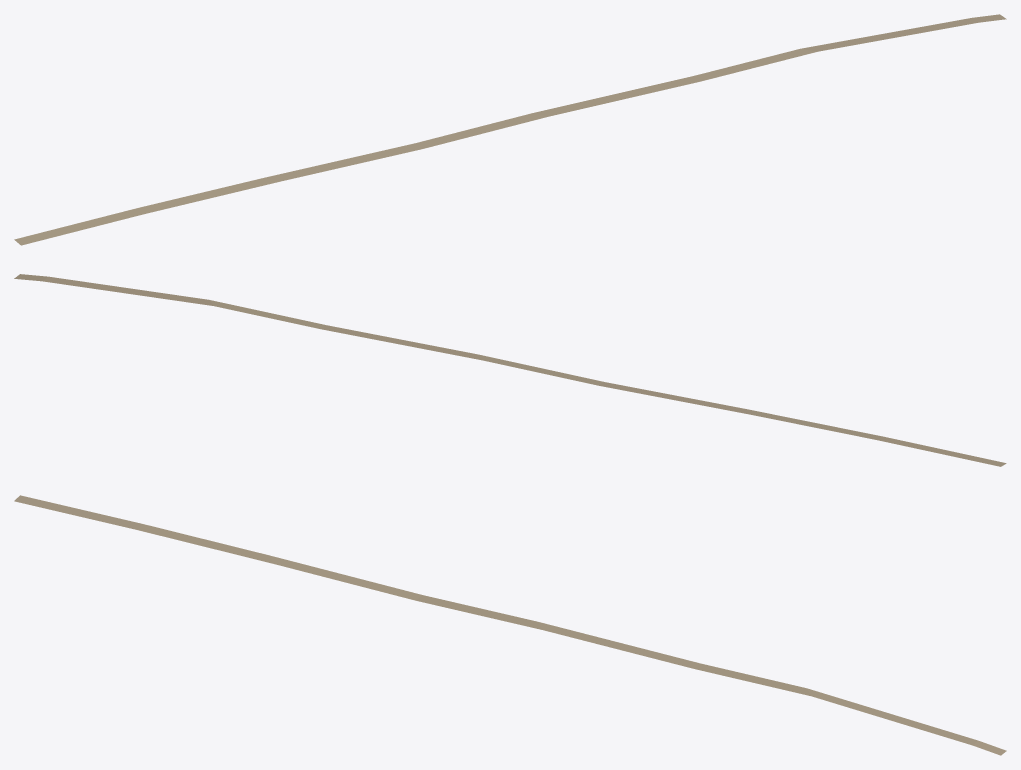
The model's file is farm_37_34_track.glb.
3 views of the same model, one above another, from view 1: azimuth 30°, elevation 25°; view 2: azimuth 150°, elevation 25°; view 3: azimuth 330°, elevation 25° (orthographic). The views are drawn at different scales.
Visible parts, largest first — view 1: geometry_0; view 2: geometry_0; view 3: geometry_0.
Part boxes in pixels (x1,y1,x2,y2): geometry_0: (14,14,1006,245); geometry_0: (14,274,1006,466); geometry_0: (14,495,1006,755).
Bounding box in the file's own units: 284 × 9.46 × 13.16.
